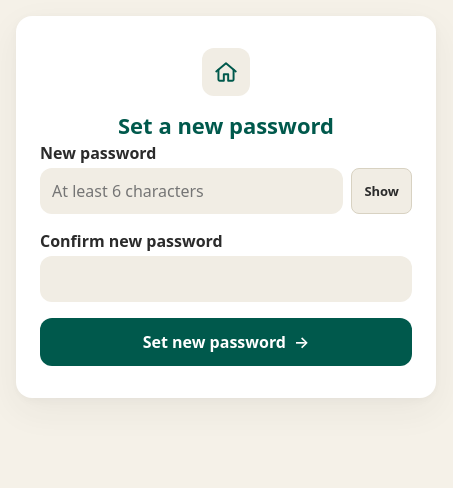
ResetPasswordPage — with a recovery session (normal case) › rejects mismatched passwords
Type "abc123" into the password field labelled "New password".
click(192, 191); type("abc123")  # box [40, 168, 343, 214]
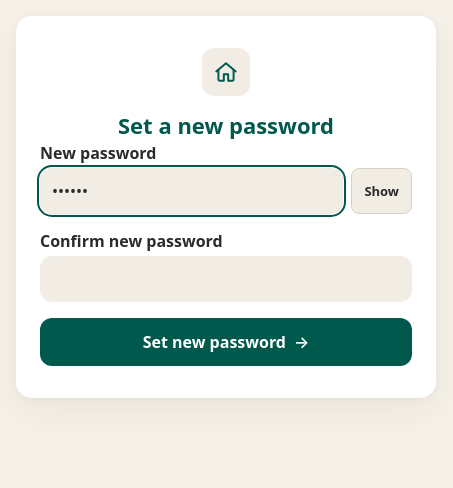
Type "different123" into the password field labelled "Confirm new password".
click(226, 279); type("different123")  # box [40, 256, 412, 302]
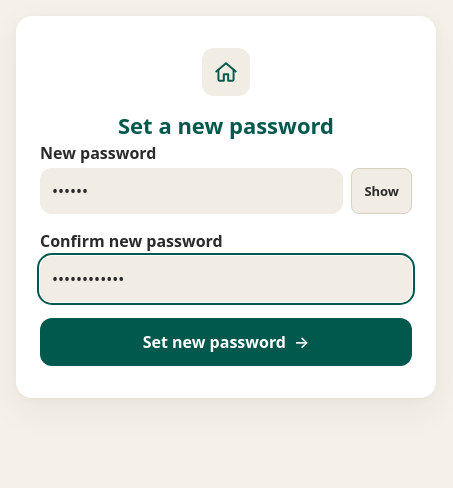
Click the button "Set new password →".
click(226, 342)  # box [40, 318, 412, 366]
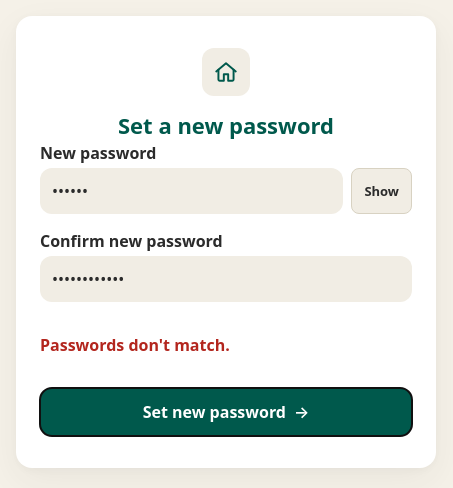
Result: the message reads "Passwords don't match." at [40, 334, 230, 356]
